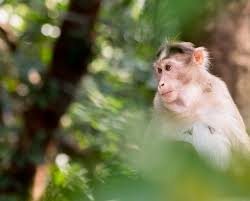monkey: (88, 17, 250, 160)
